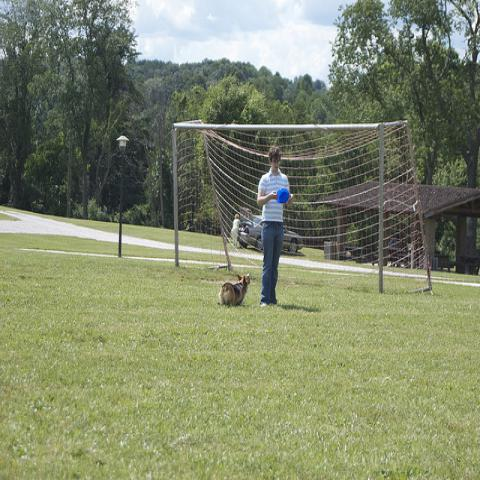car: (230, 207, 304, 254), (434, 254, 456, 270)
